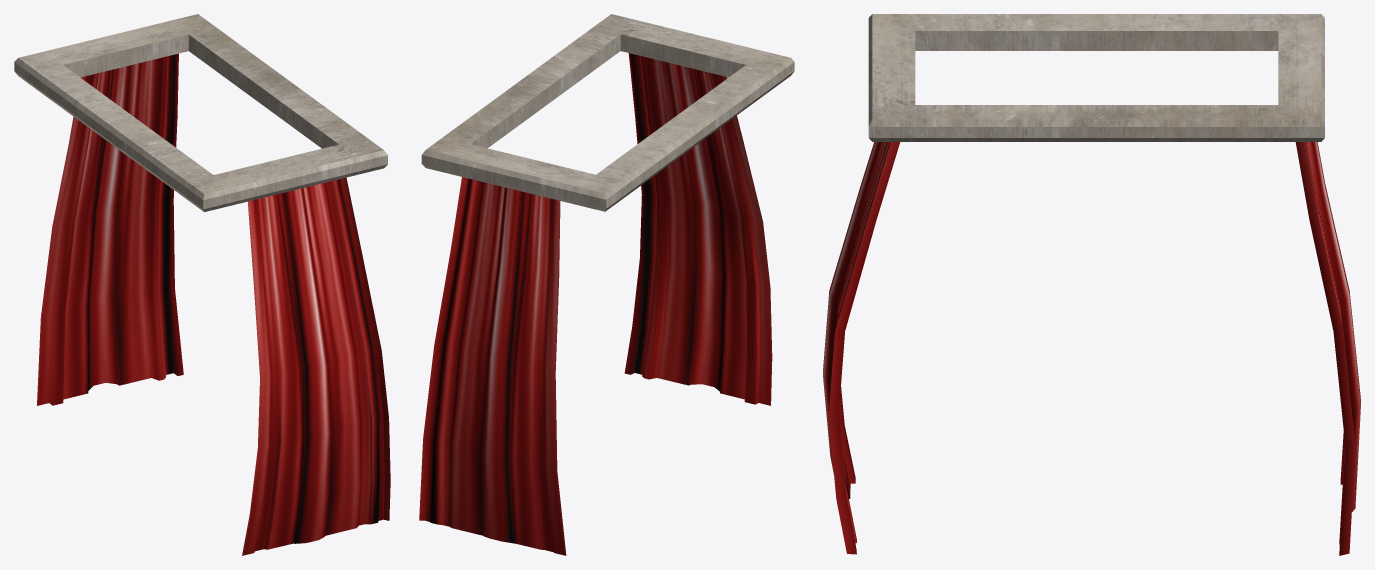
File: SM_R_Curtain_2.fbx
3 renders of one model, left to right at view 1: azimuth 30°, elevation 25°; view 2: azimuth 150°, elevation 25°; view 3: azimuth 270°, elevation 25°, orthographic. The views are drawn at different scales.
Visible parts, largest first — view 1: SM_R_Curtain_2; view 2: SM_R_Curtain_2; view 3: SM_R_Curtain_2.
Part boxes in pixels (x1=…): SM_R_Curtain_2: x1=14, y1=14, x2=390, y2=555; SM_R_Curtain_2: x1=419, y1=14, x2=794, y2=555; SM_R_Curtain_2: x1=823, y1=14, x2=1360, y2=555.
Bounding box in the file's own units: 184 × 384 × 347.
2 materials, 2 textured.
